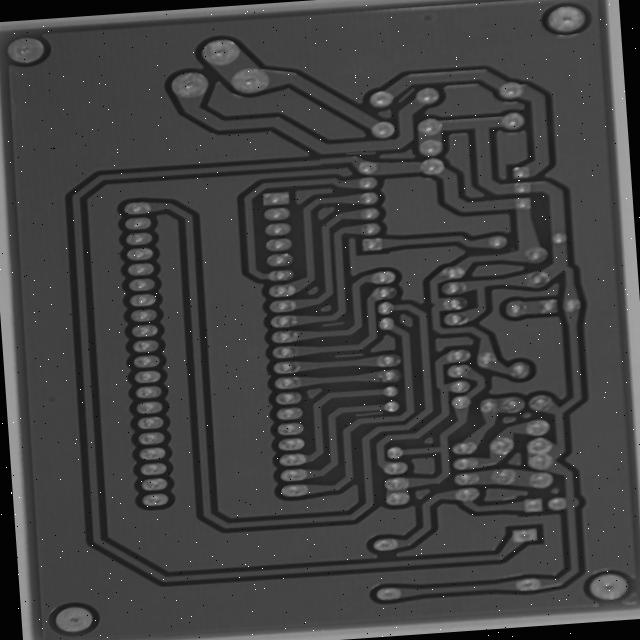spurious_copper: (375, 86, 405, 109), (318, 152, 362, 167), (307, 361, 349, 374), (292, 328, 327, 343), (328, 424, 365, 436)
